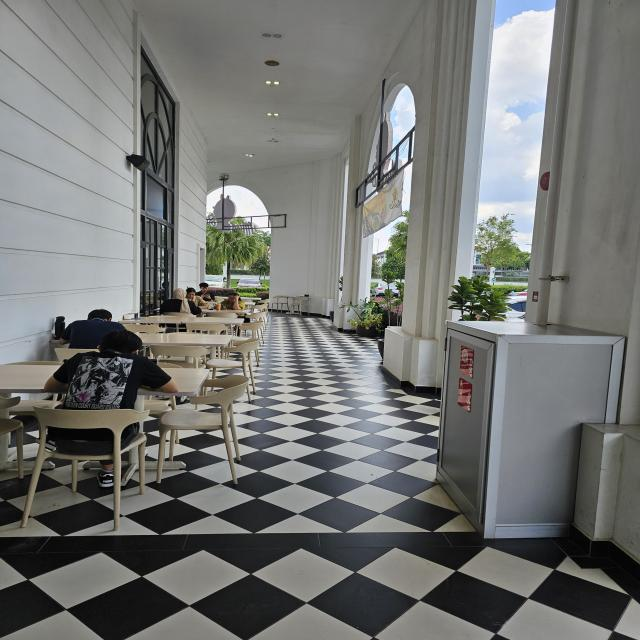footpath: (257, 355, 378, 640)
obstacle: (445, 318, 629, 538), (0, 354, 247, 516)
person: (41, 328, 172, 491)
